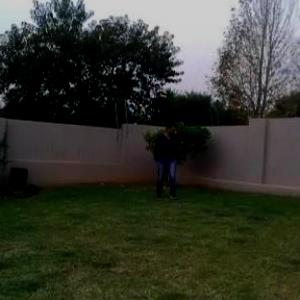follow: (155, 118, 180, 201)
